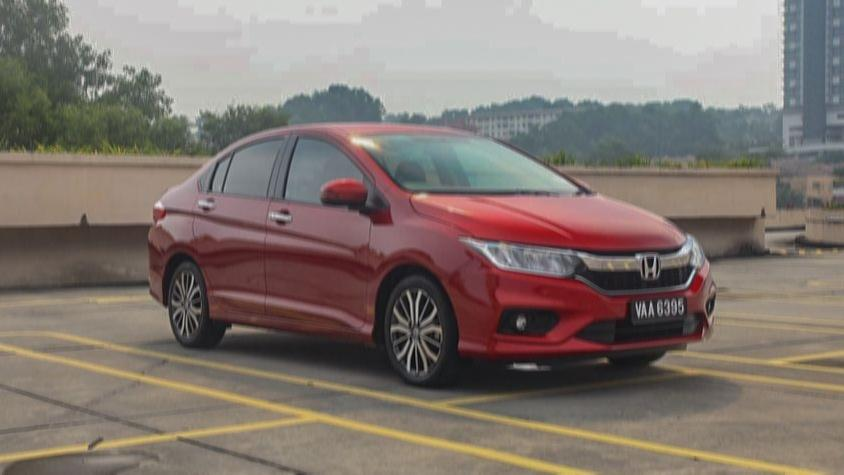Car hood: (407, 190, 691, 252)
Driver-s door - -F-R-: (265, 127, 368, 332)
Fender - -F-R-: (368, 179, 473, 338)
Fender - -R-R-: (160, 194, 216, 317)
Front bumper: (445, 258, 723, 366)
Headlight - -L-: (683, 229, 710, 271)
Headlight - -R-: (453, 232, 582, 283)
Passenger-s door - -R-R-: (192, 126, 283, 321)
Rear bumper: (141, 225, 170, 311)
Rear light - -R-: (145, 192, 171, 228)
Side bumper - -R-: (204, 300, 379, 347)
Side mirror - -R-: (315, 172, 372, 214)
